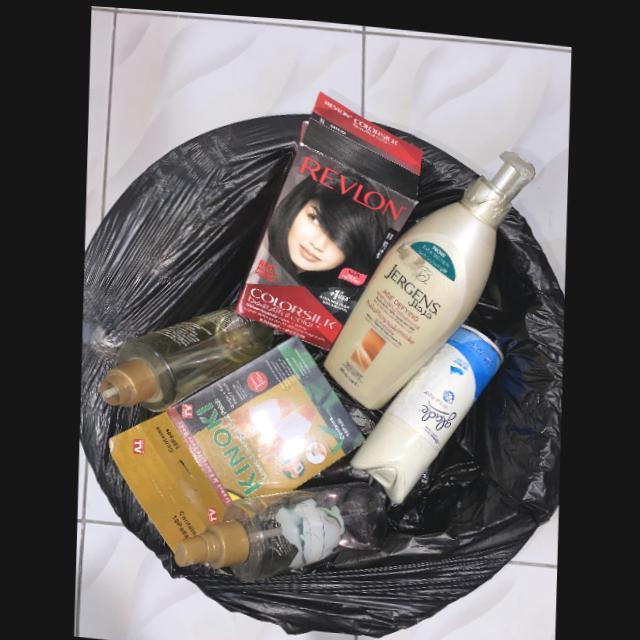metal: (348, 318, 503, 502)
paper: (107, 332, 364, 551), (235, 87, 422, 347)
plastic: (326, 141, 539, 403), (173, 476, 386, 579), (98, 306, 274, 410)
